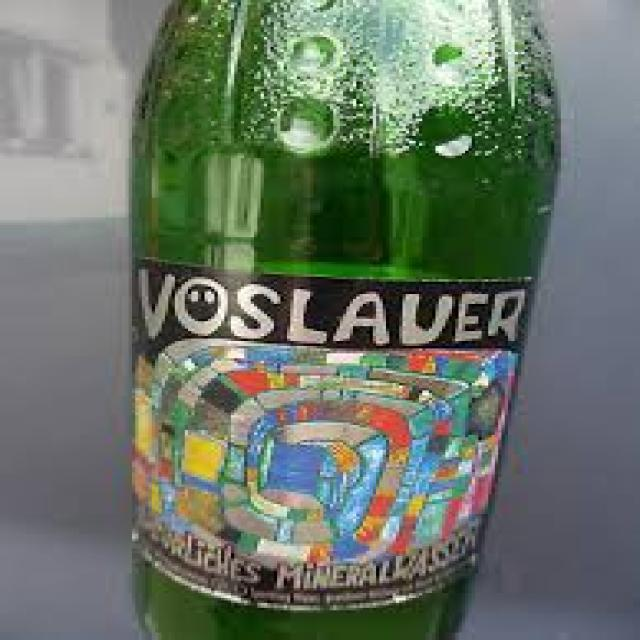glass: (125, 0, 561, 638)
